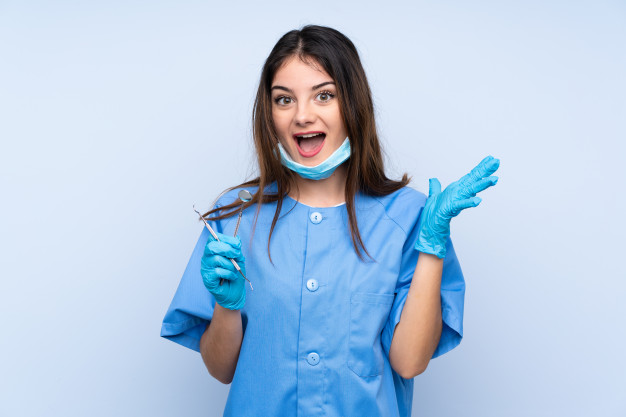mask_weared_incorrect: (262, 60, 356, 184)
